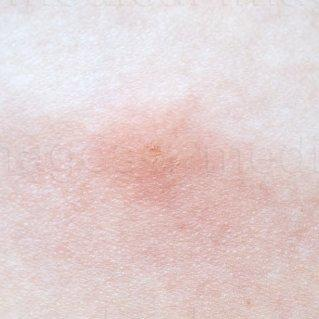Mosquito: (109, 113, 198, 186)
